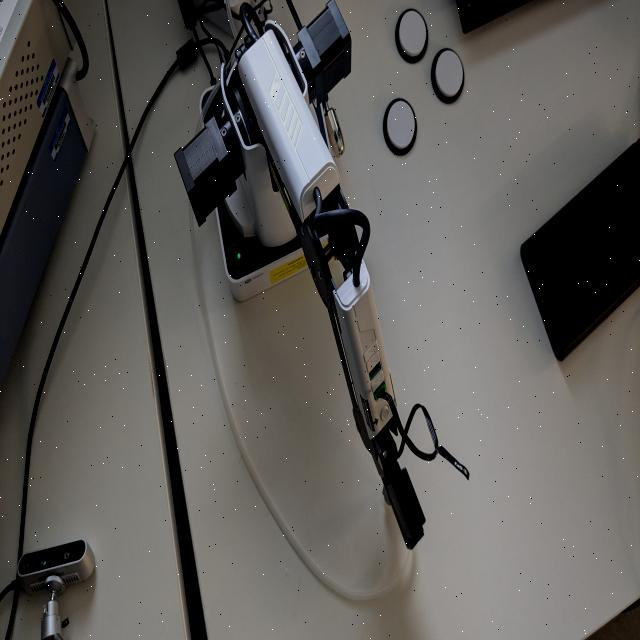Robot-end-effector-HF8z: (380, 463, 428, 553)
